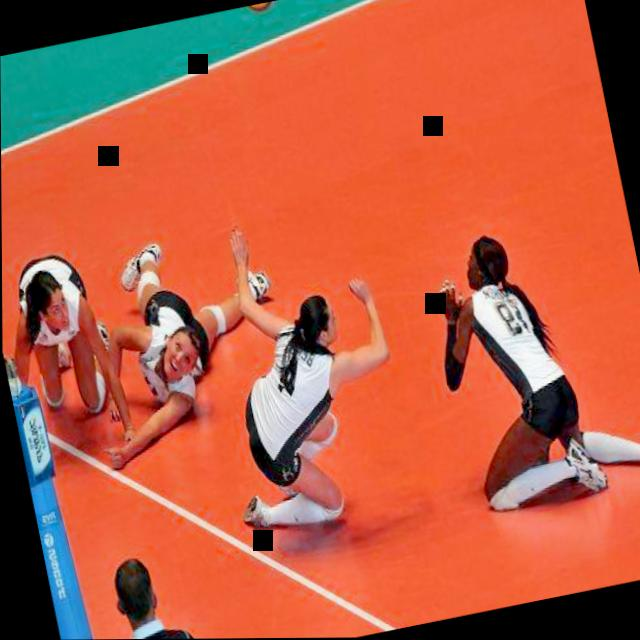Fall-Detected: (399, 197, 640, 533)
